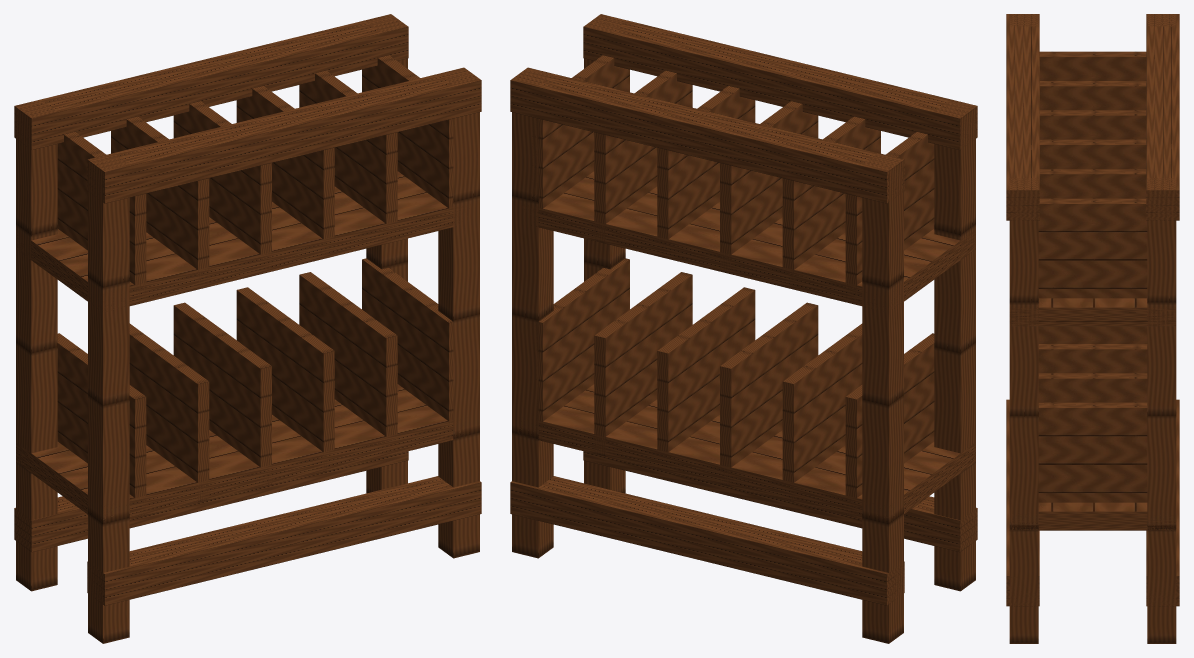
Rendered from rural-scavenging-settlements-cellar-bottle-rack-56a43bca__26570.glb.
3 views of the same model, side by side, from view 1: azimuth 30°, elevation 25°; view 2: azimuth 150°, elevation 25°; view 3: azimuth 270°, elevation 25° (orthographic). The views are drawn at different scales.
Parts seen in each view (by area): view 1: cellar-bottle-rack; view 2: cellar-bottle-rack; view 3: cellar-bottle-rack.
Part boxes in pixels (x1,y1,x2,y2): cellar-bottle-rack: (14,14,481,643); cellar-bottle-rack: (510,14,977,643); cellar-bottle-rack: (1006,14,1179,643).
Bounding box in the file's own units: 1 × 1.2 × 0.4161.
1 material, 1 textured.
